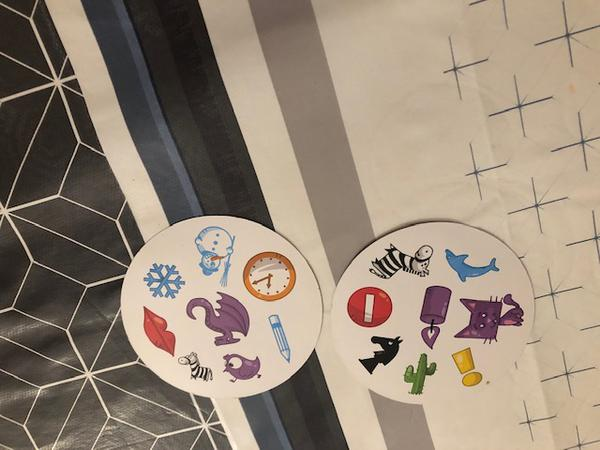bonhomme_neige: (191, 221, 235, 285)
bouche: (140, 303, 176, 358)
bougie: (414, 283, 452, 348)
cactus: (396, 350, 439, 399)
chat: (448, 288, 529, 344)
cheval: (357, 334, 405, 376)
crayon: (265, 311, 297, 361)
dauphin: (440, 243, 503, 283)
dragon: (184, 288, 256, 345)
flocon: (141, 256, 190, 301)
horloge: (241, 249, 302, 301)
oiseau: (221, 353, 263, 383)
point_exclamation: (450, 347, 487, 393)
sens_interdit: (345, 285, 394, 327)
zebre: (367, 241, 433, 279), (176, 347, 216, 383)
